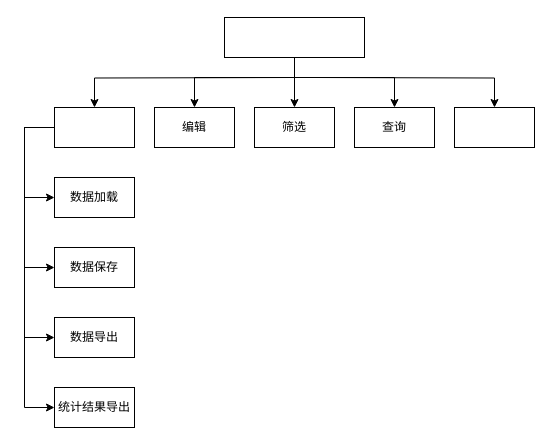
Some shapes in this 552 by 445 pixel diagram are drawn without their labels. Here are the shapes that lost their labels. From the top down, the box of each, then its label:
(224, 16, 364, 58): 系统功能模块结构
(54, 106, 134, 148): 文件
(454, 106, 534, 148): 统计
